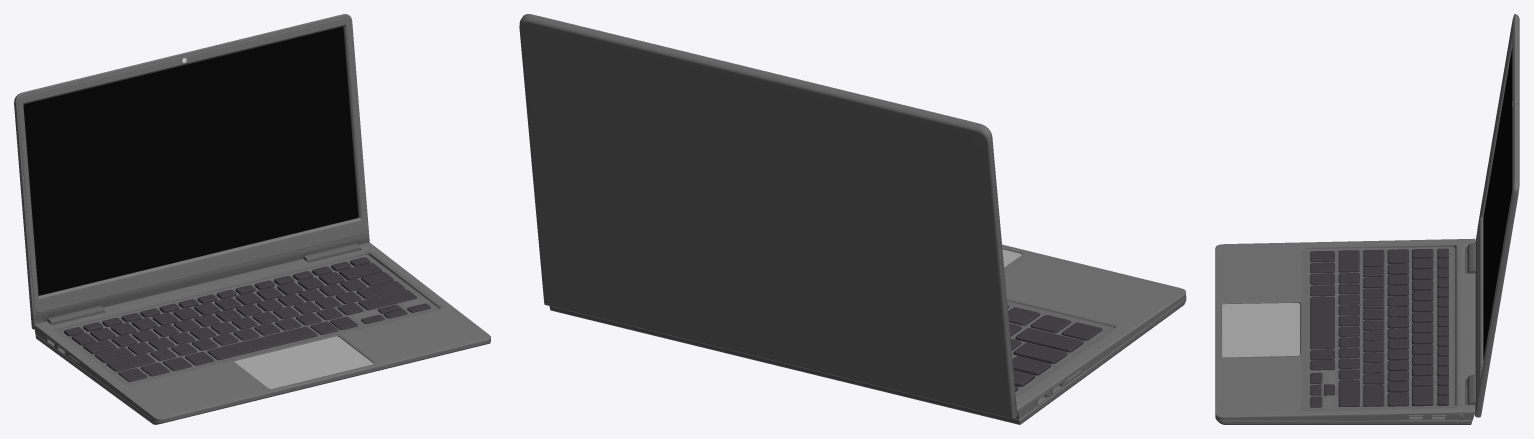
File: notebook.fbx
3 renders of one model, left to right at view 1: azimuth 30°, elevation 25°; view 2: azimuth 150°, elevation 25°; view 3: azimuth 270°, elevation 25°, orthographic. The views are drawn at different scales.
Parts seen in each view (by area): view 1: notebook; view 2: notebook; view 3: notebook.
Boxes of the visible parts, bbox=[...] form: notebook: bbox=[14, 14, 490, 424]; notebook: bbox=[519, 14, 1186, 424]; notebook: bbox=[1215, 14, 1519, 424].
Size of the model in its own units: 2521 by 1634 by 1868.
3 materials, 2 textured.
